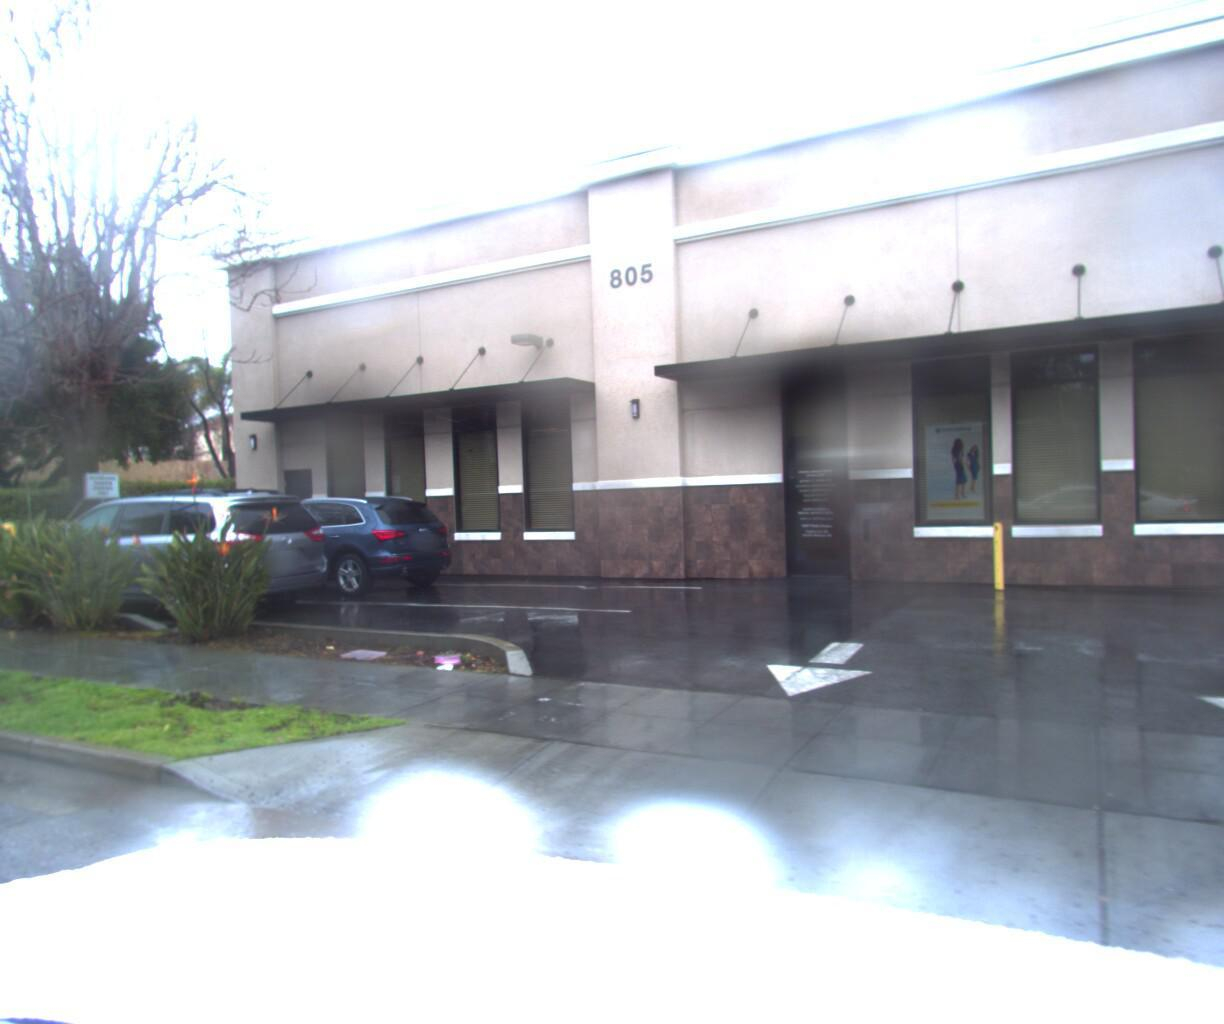car: (0, 479, 340, 620), (202, 487, 471, 596)
